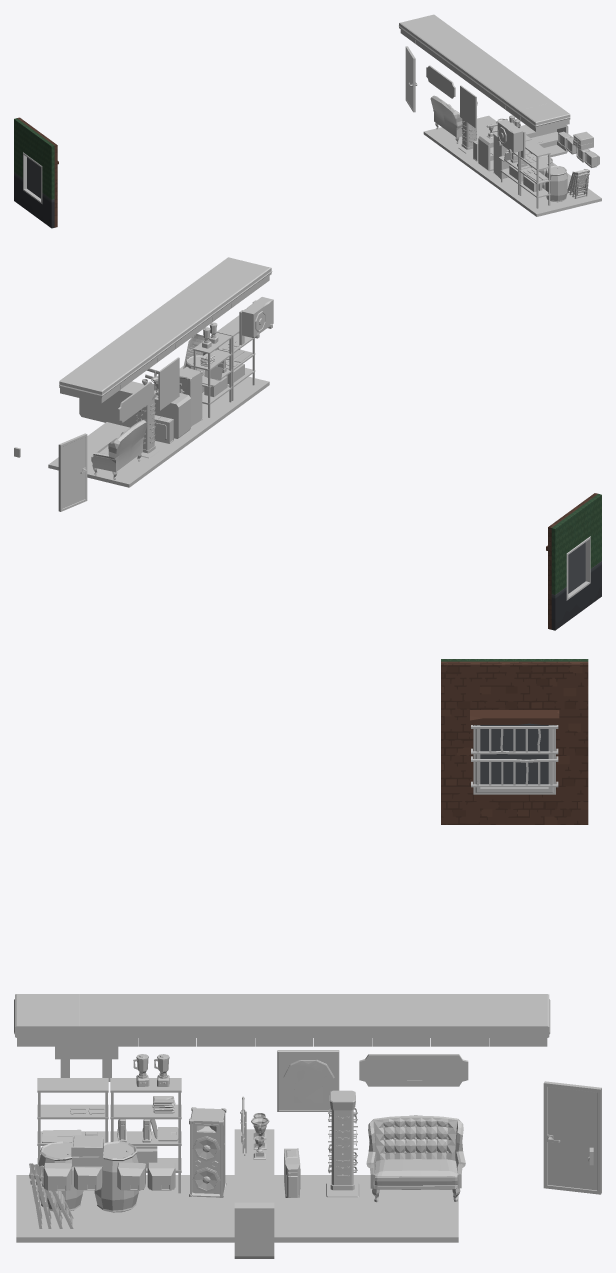
File: Combined Mesh (root_ scene) 4.obj
3 views of the same model, one above another, from view 1: azimuth 30°, elevation 25°; view 2: azimuth 150°, elevation 25°; view 3: azimuth 270°, elevation 25° (orthographic). The views are drawn at different scales.
Visible parts, largest first — view 1: Combined Mesh (root: scene) 4_79, Combined Mesh (root: scene) 4_74, Combined Mesh (root: scene) 4_13, Combined Mesh (root: scene) 4_57, Combined Mesh (root: scene) 4_24, Combined Mesh (root: scene) 4_70, Combined Mesh (root: scene) 4_33, Combined Mesh (root: scene) 4_75, Combined Mesh (root: scene) 4_27, Combined Mesh (root: scene) 4_23, Combined Mesh (root: scene) 4_17, Combined Mesh (root: scene) 4_22 (+17 smaller); view 2: Combined Mesh (root: scene) 4_79, Combined Mesh (root: scene) 4_13, Combined Mesh (root: scene) 4_70, Combined Mesh (root: scene) 4_33, Combined Mesh (root: scene) 4_16, Combined Mesh (root: scene) 4_32, Combined Mesh (root: scene) 4_56, Combined Mesh (root: scene) 4_75, Combined Mesh (root: scene) 4_24, Combined Mesh (root: scene) 4_57, Combined Mesh (root: scene) 4_74, Combined Mesh (root: scene) 4_20 (+16 smaller); view 3: Combined Mesh (root: scene) 4_76, Combined Mesh (root: scene) 4_70, Combined Mesh (root: scene) 4_33, Combined Mesh (root: scene) 4_72, Combined Mesh (root: scene) 4_74, Combined Mesh (root: scene) 4_13, Combined Mesh (root: scene) 4_32, Combined Mesh (root: scene) 4_67, Combined Mesh (root: scene) 4_24, Combined Mesh (root: scene) 4_68, Combined Mesh (root: scene) 4_77, Combined Mesh (root: scene) 4_16 (+20 smaller).
Boxes of the visible parts, x1,y1,x2,y2 form: Combined Mesh (root: scene) 4_79: (14,118,54,228); Combined Mesh (root: scene) 4_74: (499,173,601,215); Combined Mesh (root: scene) 4_13: (478,125,568,171); Combined Mesh (root: scene) 4_57: (519,139,550,208); Combined Mesh (root: scene) 4_24: (518,102,570,132); Combined Mesh (root: scene) 4_70: (423,115,497,160); Combined Mesh (root: scene) 4_33: (430,95,462,143); Combined Mesh (root: scene) 4_75: (497,119,525,158); Combined Mesh (root: scene) 4_27: (545,166,567,202); Combined Mesh (root: scene) 4_23: (504,91,553,120); Combined Mesh (root: scene) 4_17: (414,25,463,54); Combined Mesh (root: scene) 4_22: (489,80,538,109); Combined Mesh (root: scene) 4_79: (551,494,601,630); Combined Mesh (root: scene) 4_13: (79,381,190,438); Combined Mesh (root: scene) 4_70: (48,430,175,485); Combined Mesh (root: scene) 4_33: (91,420,147,479); Combined Mesh (root: scene) 4_16: (59,367,120,403); Combined Mesh (root: scene) 4_32: (62,437,85,508); Combined Mesh (root: scene) 4_56: (193,332,232,417); Combined Mesh (root: scene) 4_75: (239,297,273,345); Combined Mesh (root: scene) 4_24: (208,257,272,294); Combined Mesh (root: scene) 4_57: (216,315,255,400); Combined Mesh (root: scene) 4_74: (179,366,269,417); Combined Mesh (root: scene) 4_20: (134,312,195,348); Combined Mesh (root: scene) 4_76: (441,661,588,824); Combined Mesh (root: scene) 4_70: (311,1175,458,1240); Combined Mesh (root: scene) 4_33: (366,1115,465,1202); Combined Mesh (root: scene) 4_72: (163,1175,310,1240); Combined Mesh (root: scene) 4_74: (16,1175,163,1240); Combined Mesh (root: scene) 4_13: (234,1129,274,1258); Combined Mesh (root: scene) 4_32: (547,1087,596,1190); Combined Mesh (root: scene) 4_67: (277,1050,339,1111); Combined Mesh (root: scene) 4_24: (14,994,81,1046); Combined Mesh (root: scene) 4_68: (359,1054,468,1086); Combined Mesh (root: scene) 4_77: (471,725,558,794); Combined Mesh (root: scene) 4_16: (487,994,550,1046).
Bounding box in the file's own units: 17.78 × 3.48 × 9.97.
